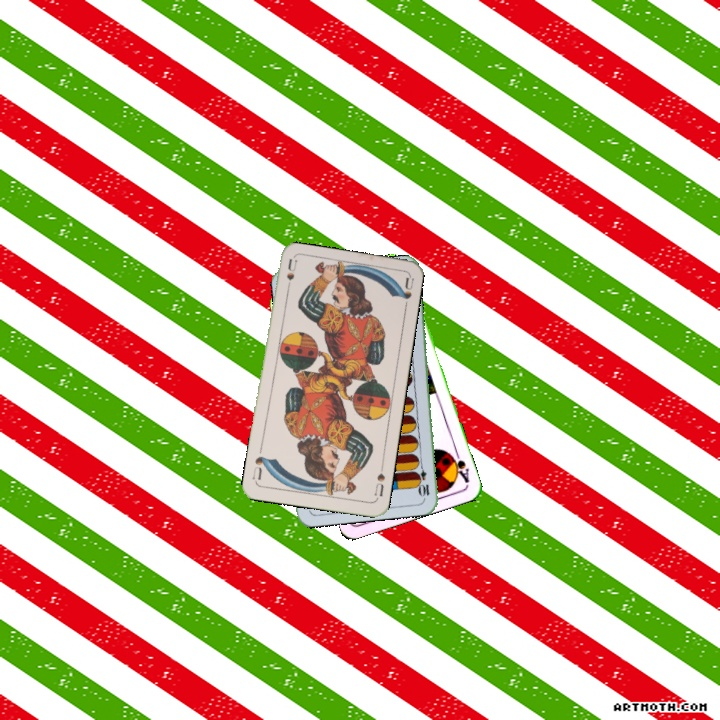E10: (415, 458, 432, 499)
SA: (446, 446, 472, 486)
SU: (370, 461, 387, 499), (282, 257, 298, 297)
